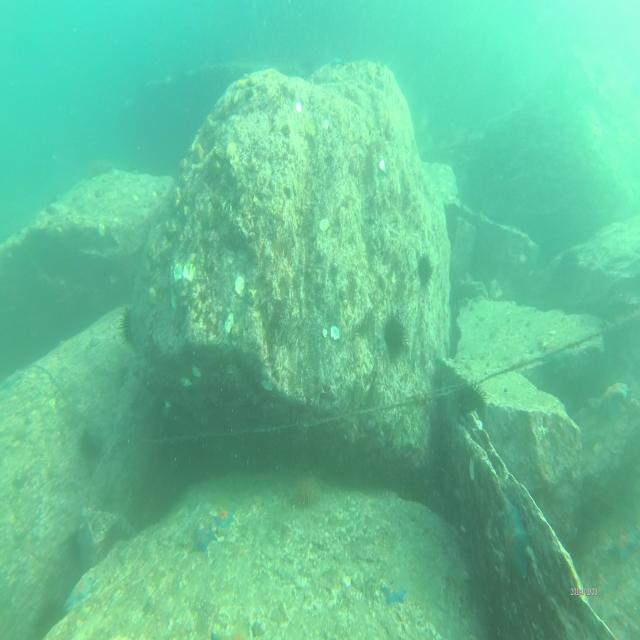echinus: (382, 308, 409, 364), (456, 378, 488, 423), (290, 475, 320, 514), (78, 421, 105, 462), (115, 305, 138, 351), (416, 250, 436, 294)
starfish: (189, 522, 216, 558), (382, 571, 407, 606), (215, 502, 233, 529)
